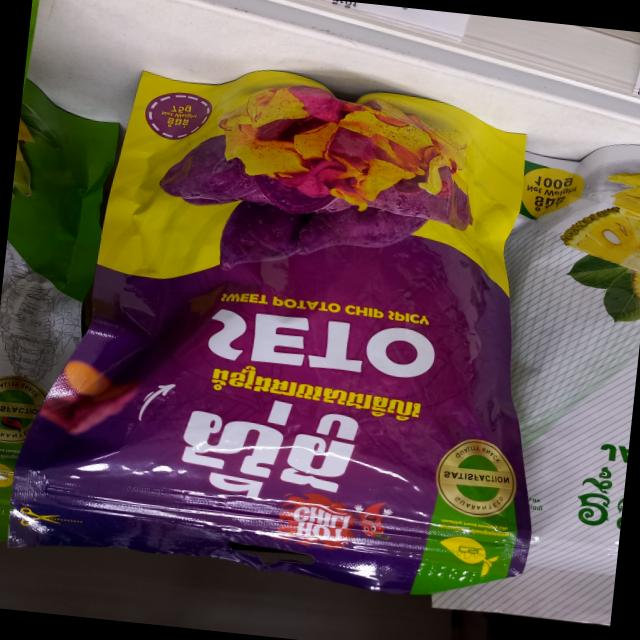534: (532, 174, 563, 190)
831: (167, 104, 185, 114)
Yolov11kh: (156, 400, 368, 513), (204, 363, 428, 427), (163, 115, 197, 128)
